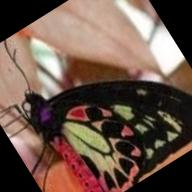butterfly: (21, 81, 192, 192)
